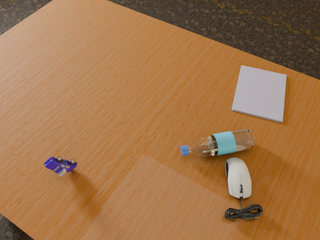book: (232, 66, 286, 122)
bottle: (181, 129, 254, 157)
mouse: (225, 158, 251, 201)
toy_car: (44, 156, 77, 176)
